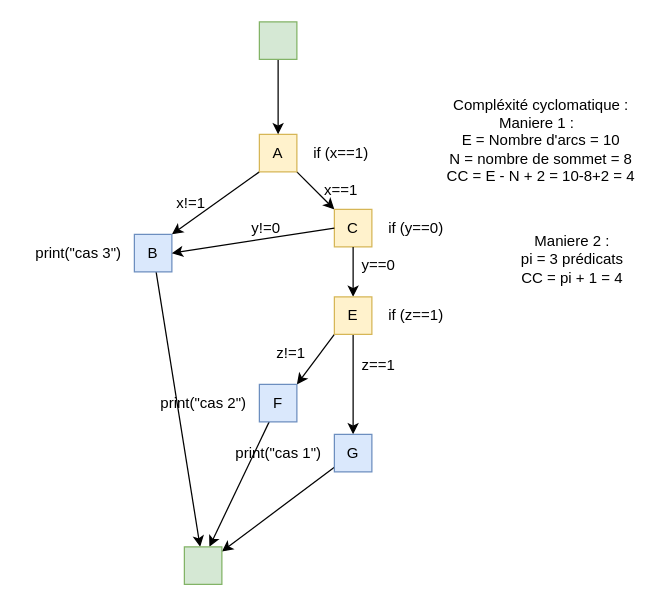
This 668x606 diagram has some shape labels left out. Here are the shapes that lost their labels. From the top down, the centre of each, then its label:
At [277,40]: "Deb".
At [202,565]: "Fin".
